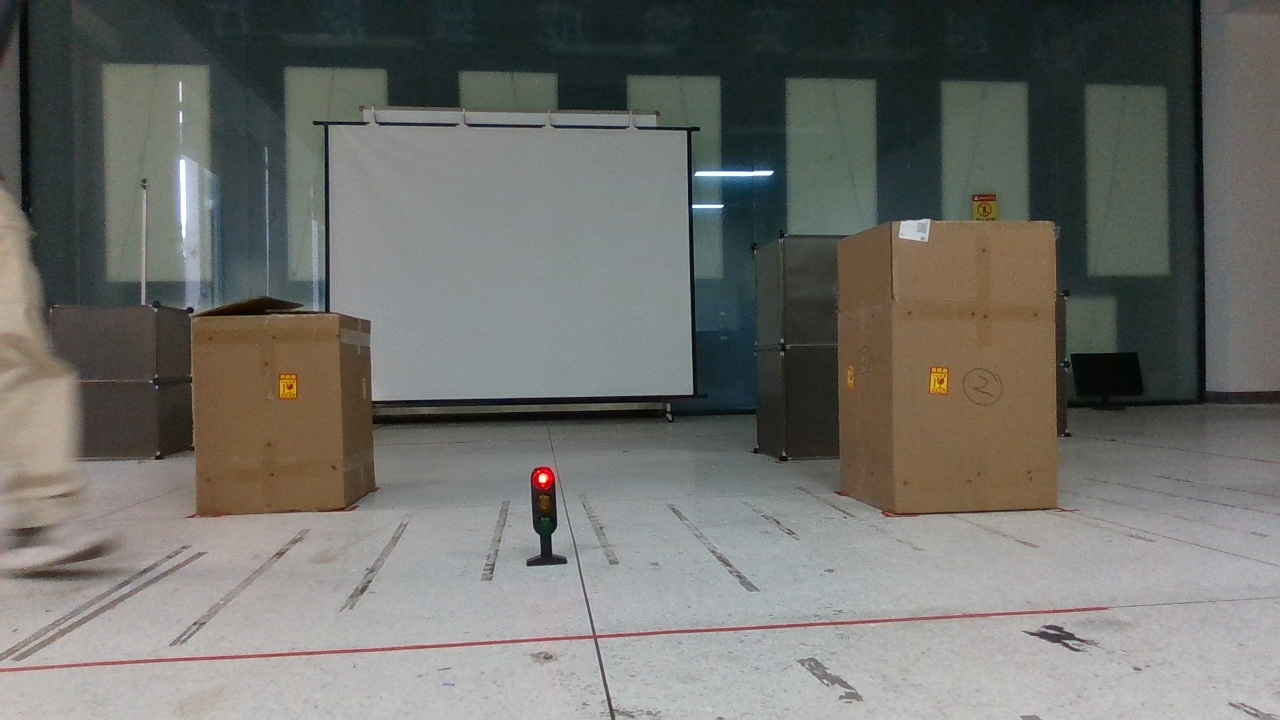red_light: (519, 466, 582, 569)
